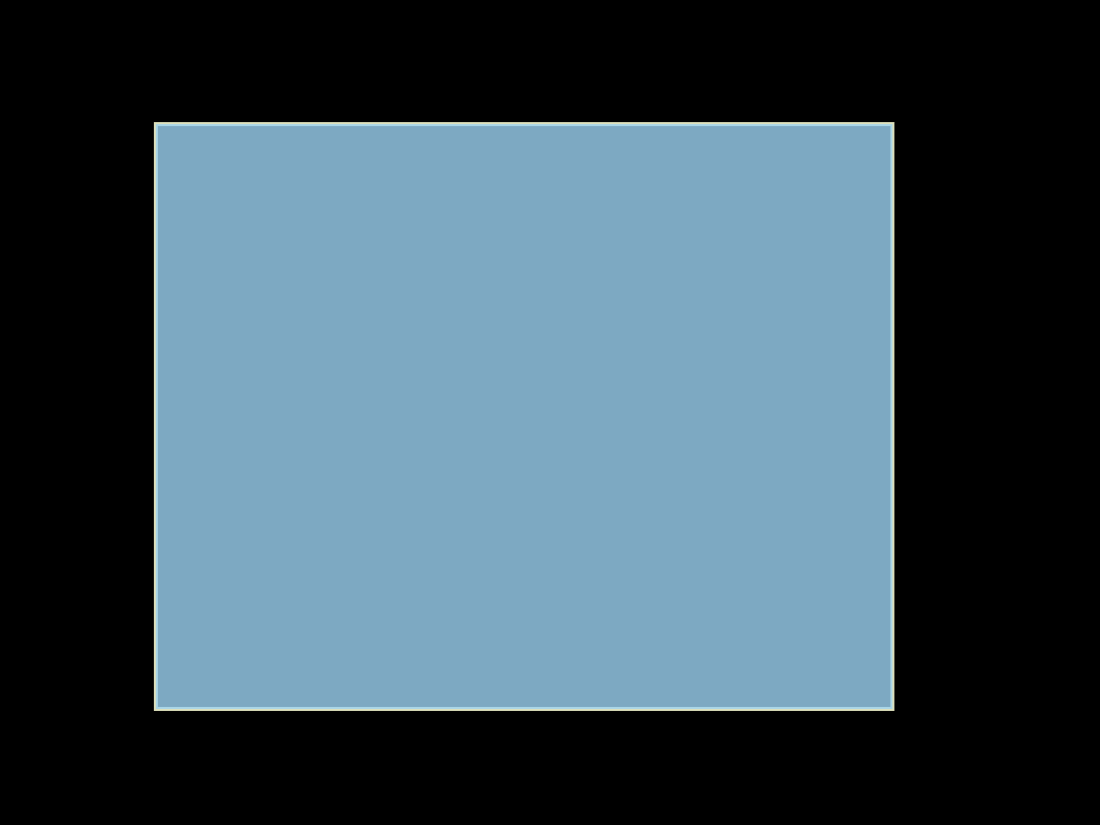Person: (155, 124, 892, 708)
